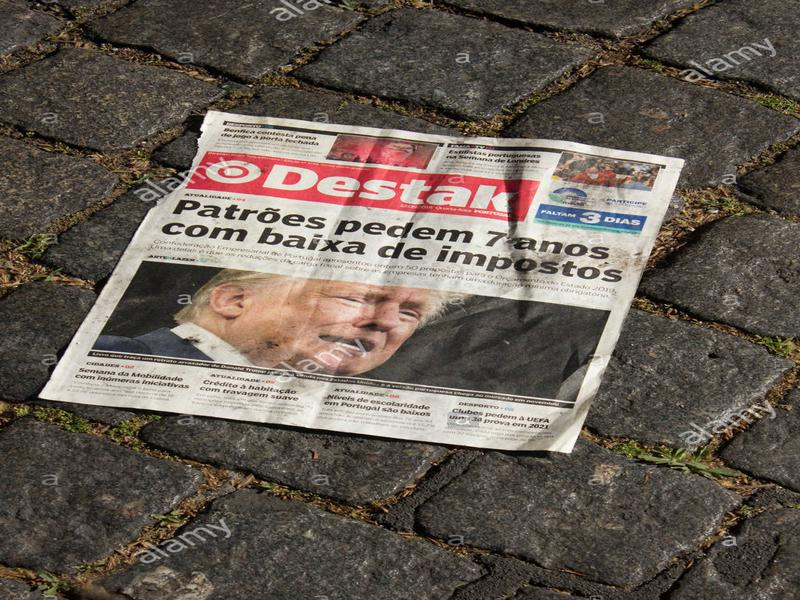paper: (35, 97, 687, 461)
